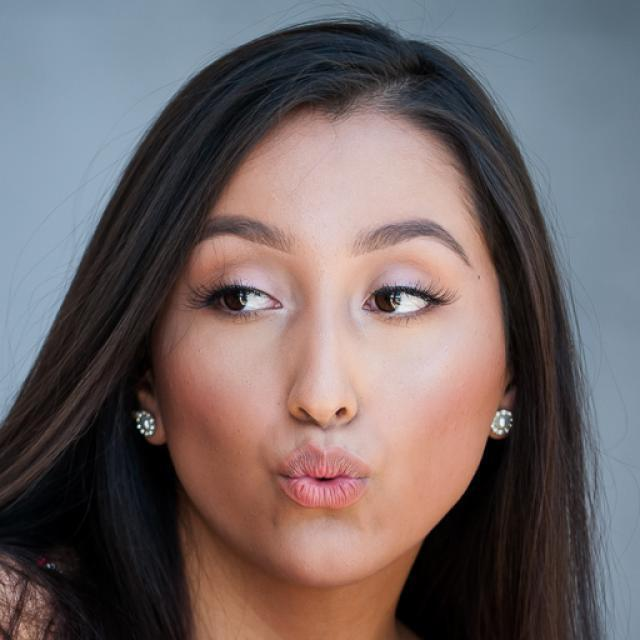0_rostro_limpio: (133, 19, 522, 587)
